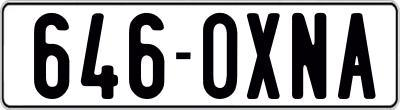0: (201, 11, 236, 103)
4: (78, 12, 117, 98)
6: (33, 11, 73, 98), (126, 12, 161, 98)
A: (338, 13, 382, 104)
N: (291, 10, 326, 98)
X: (247, 13, 281, 103)
